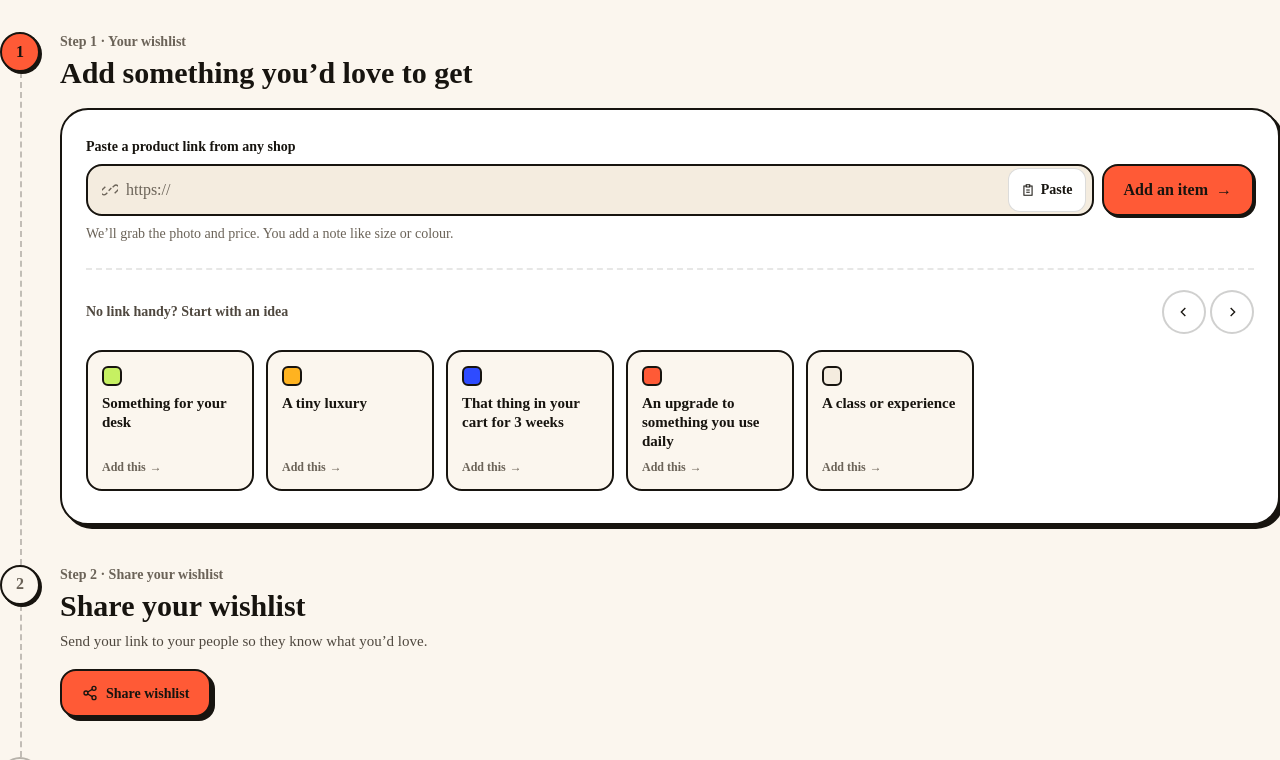
Test case: still completes this visit when browser storage is unavailable
Click the button "Share wishlist": (136,693) top-left (60, 669), bottom-right (211, 717)
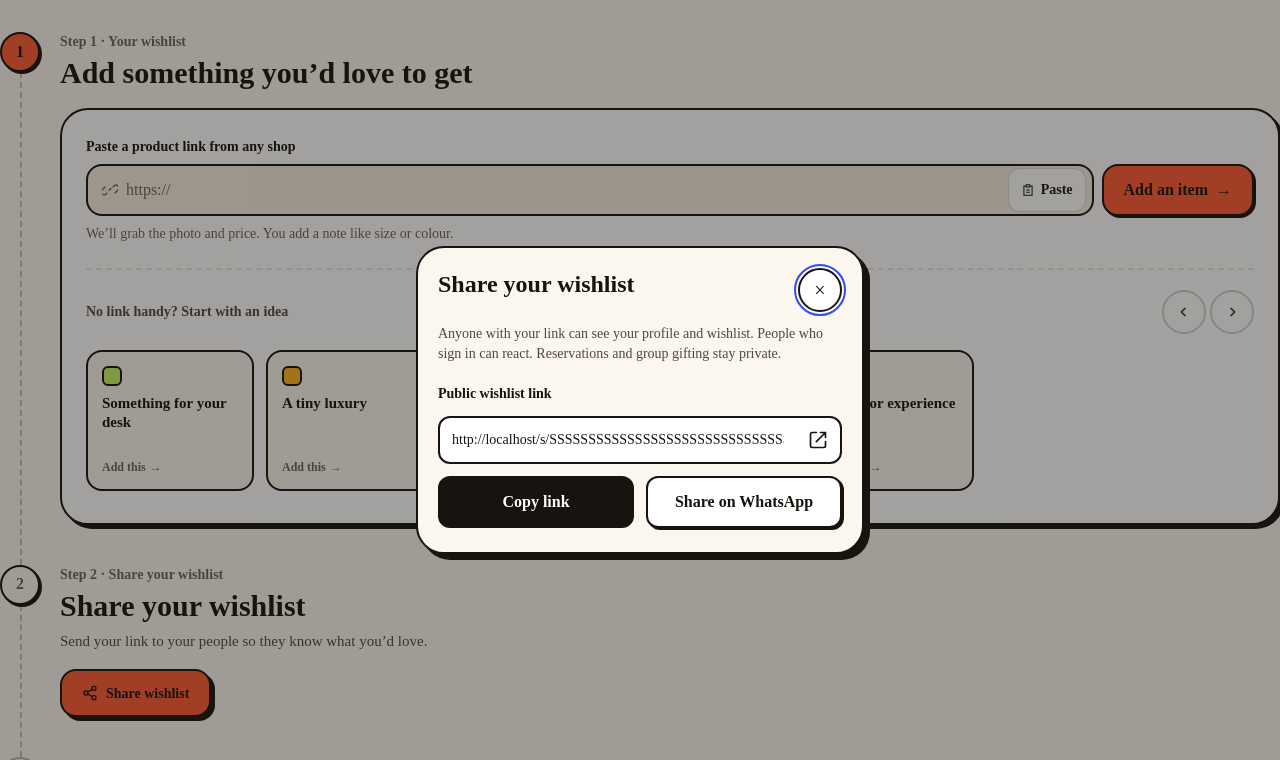
Click the button "Copy link": (536,502) top-left (438, 476), bottom-right (634, 528)
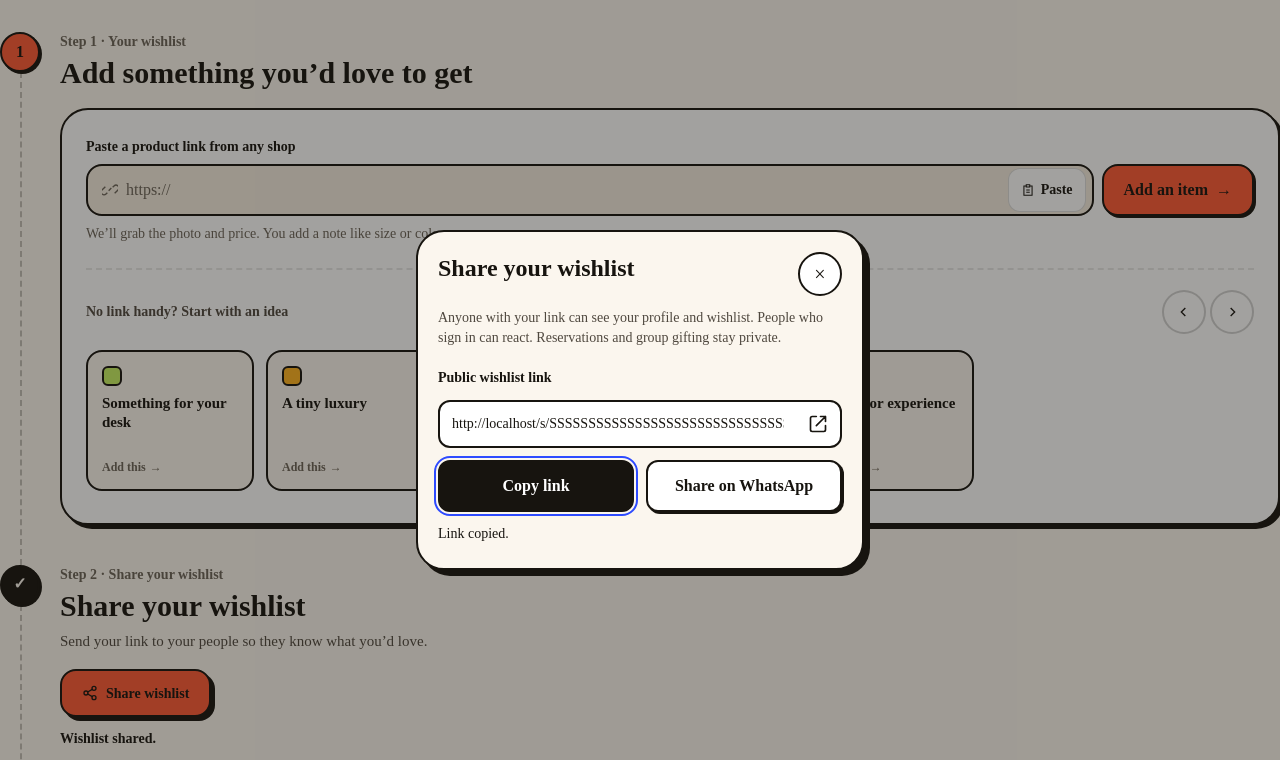
Now the text "Wishlist shared." is shown, box top-left (60, 731), bottom-right (156, 746)
